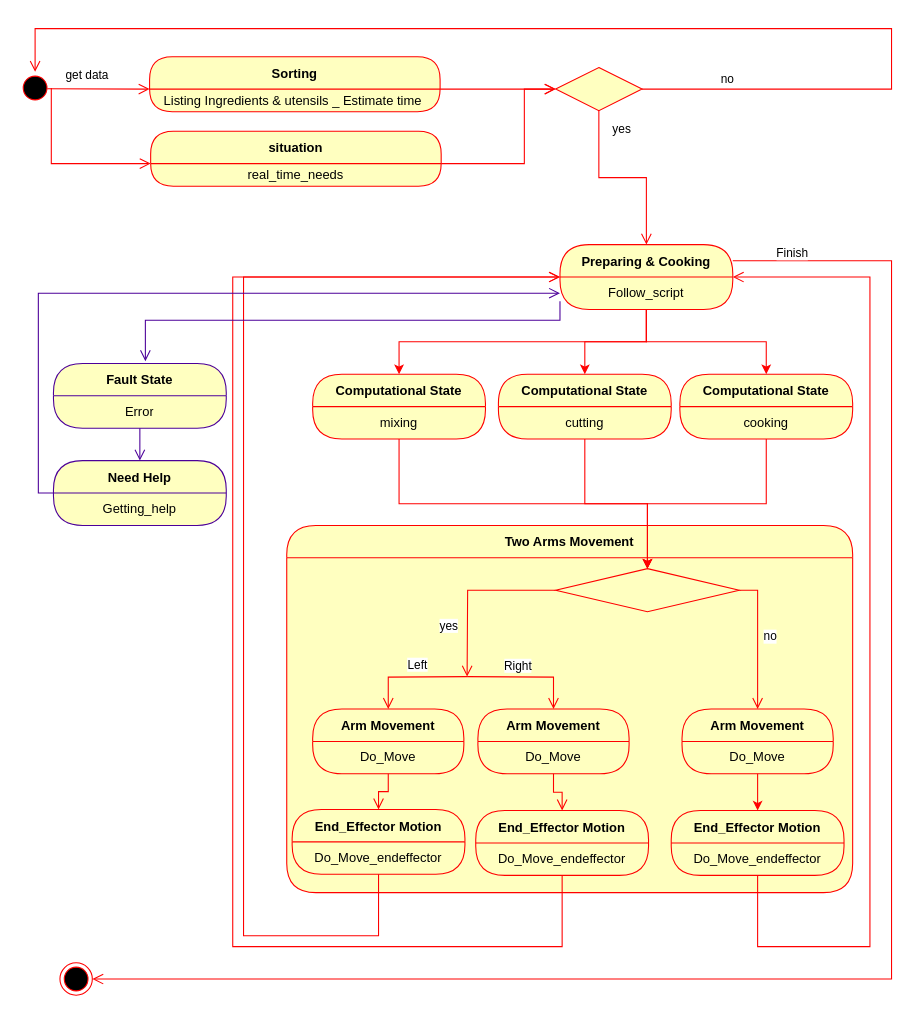
Image size: 921x1014. Some labels were removed from this diagram. Here are the shapes that lost their labels. From the top down, the centre of each, then its label:
the point at 598,88: Checking
the point at 647,590: Needs both hands
